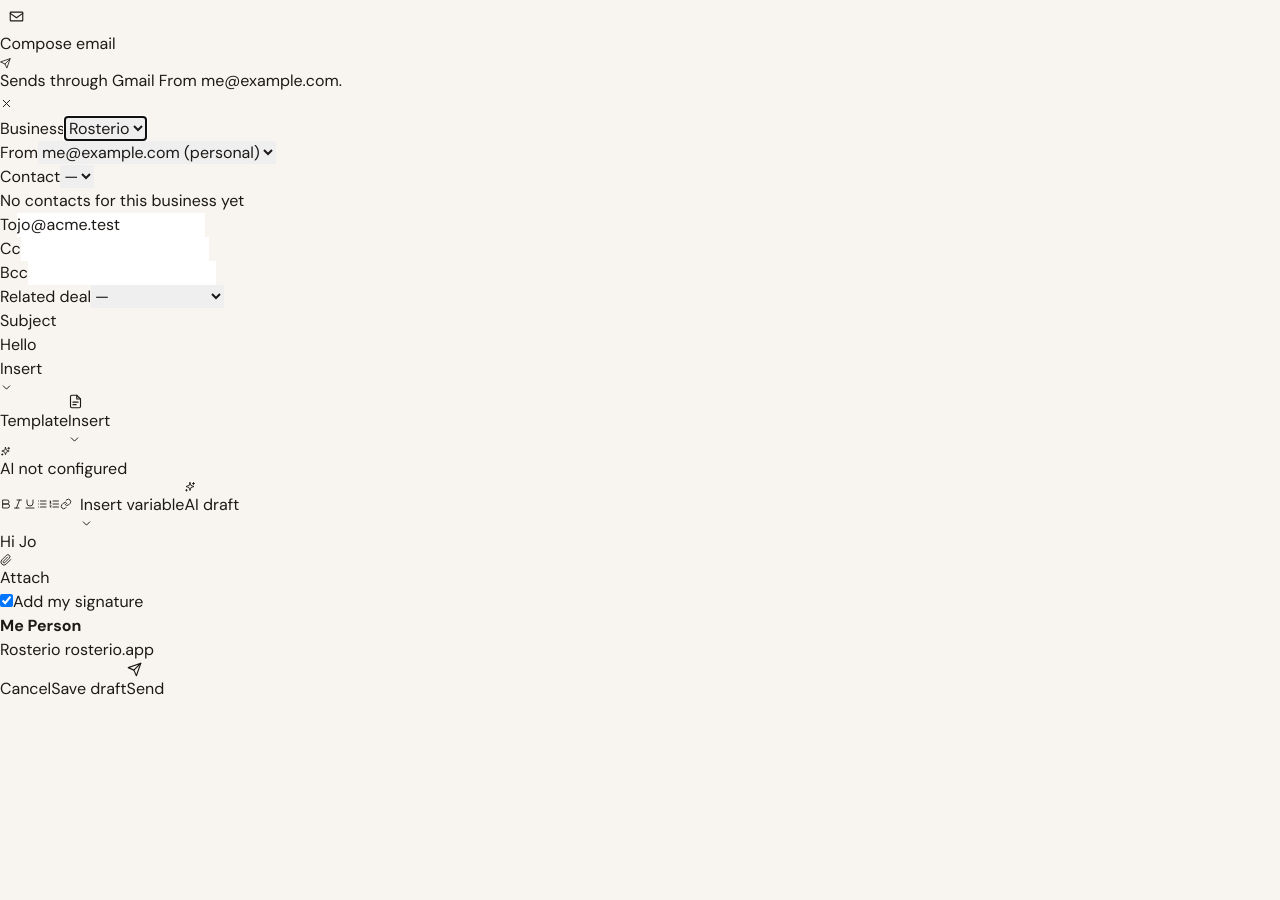
Test case: Compose › the signature can be left off one email
This screenshot has width=1280, height=900.
Click the checkbox labelled "Add my signature" at (6, 600), box [0, 594, 13, 607]
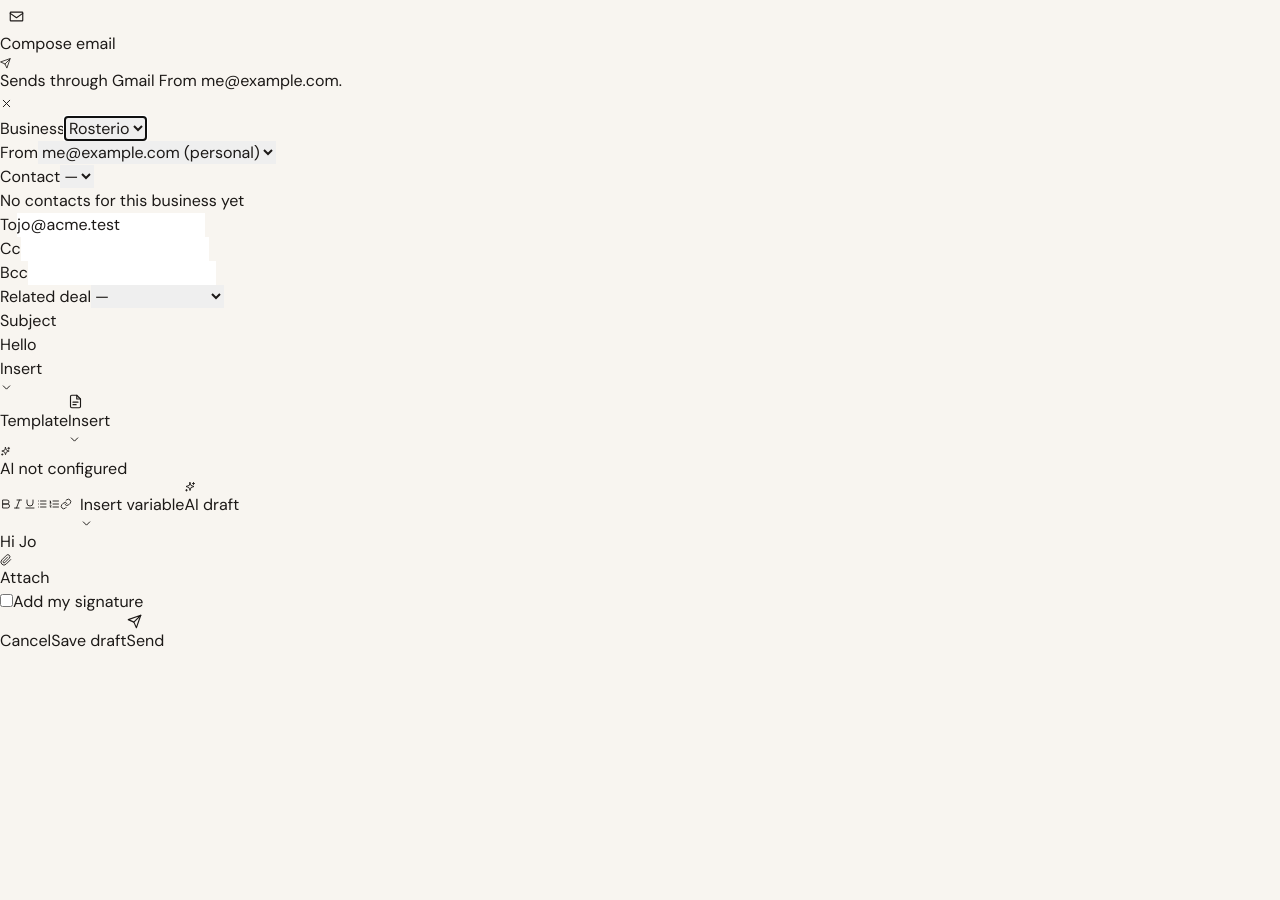
Result: the element named "Signature" is gone
